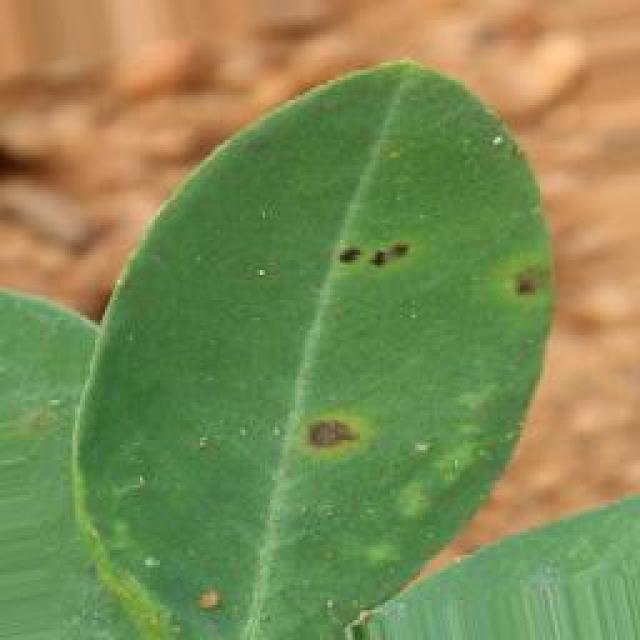Sigatoka: (304, 224, 422, 296), (300, 378, 390, 472), (496, 251, 554, 329), (184, 556, 234, 632)
